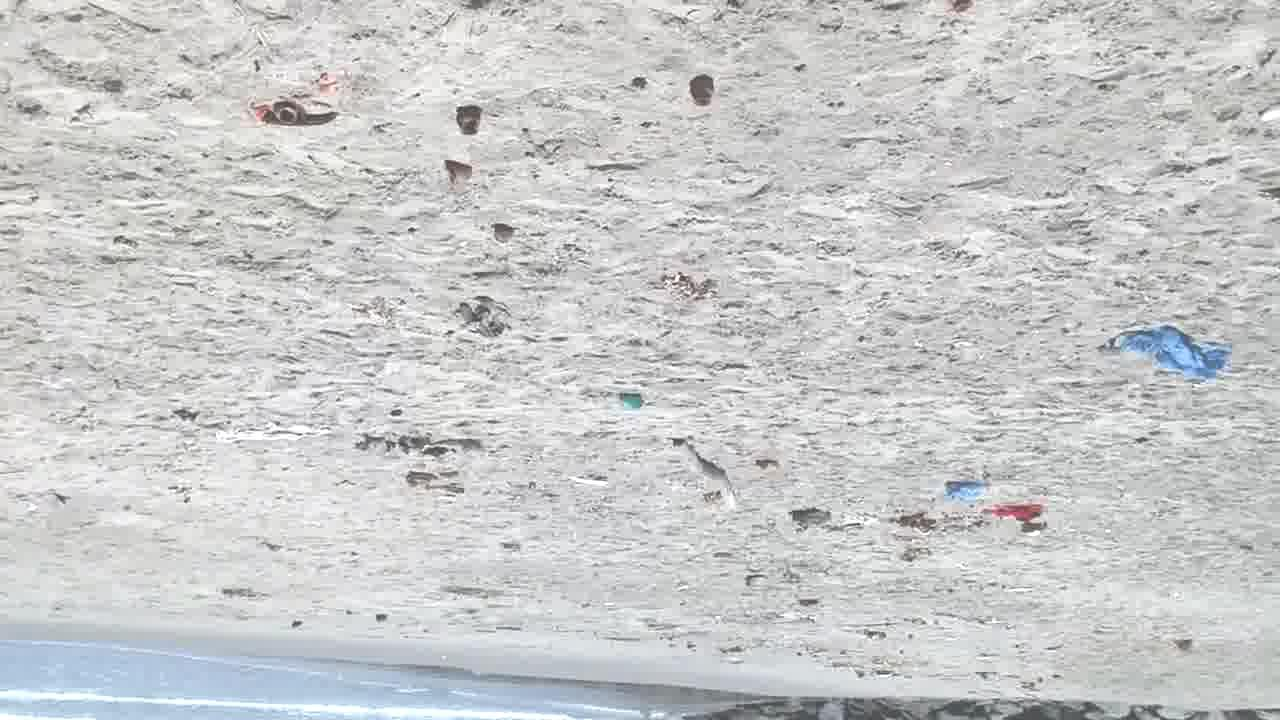obj: (1112, 324, 1226, 388), (671, 438, 736, 510), (364, 433, 478, 455), (456, 296, 509, 340), (661, 270, 722, 306), (266, 102, 342, 127), (946, 481, 988, 510), (448, 164, 479, 194), (994, 504, 1040, 524)
sand/background: (0, 593, 1280, 719)
